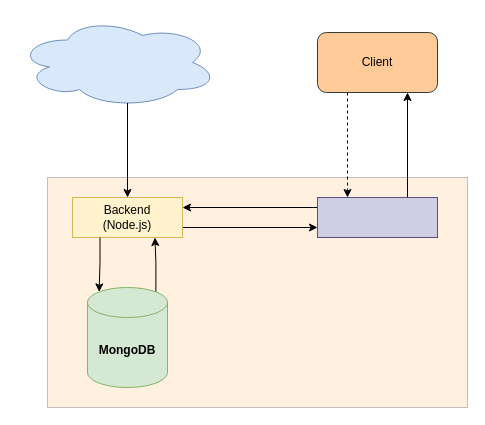
This 485x425 diagram has some shape labels left out. Each missing label, with the centre of its shape:
"data.stortinget.no" belongs at (x=117, y=62).
"Frontend (React)" belongs at (x=377, y=217).
